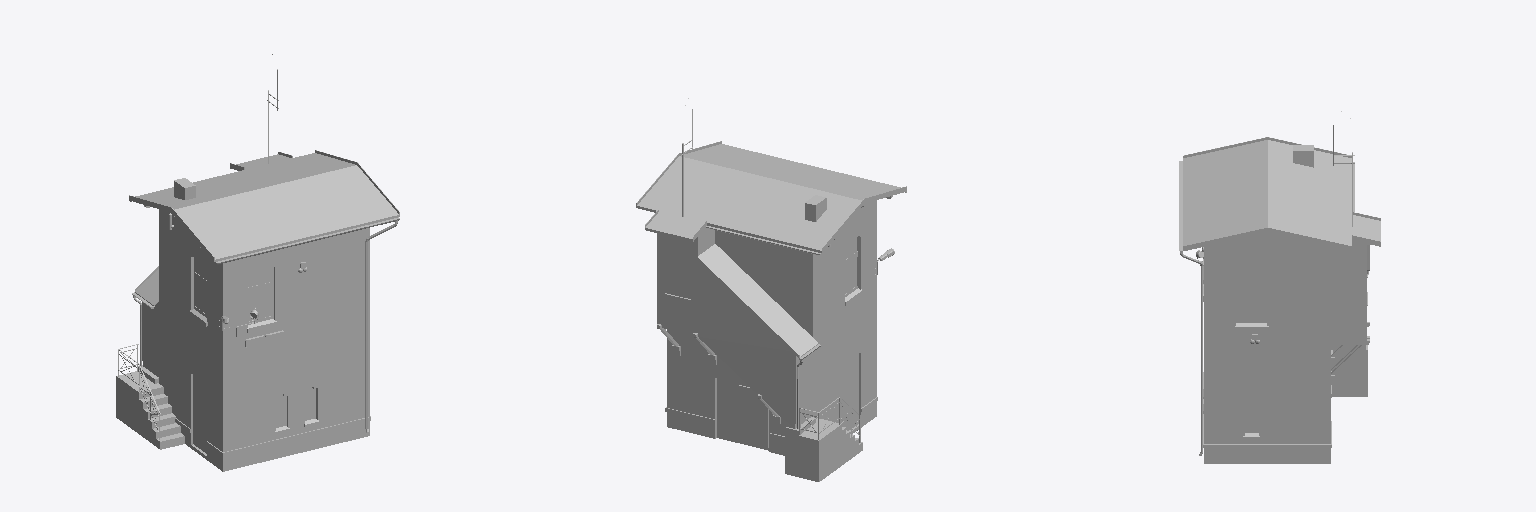
Rendered from stellwerk.obj.
The picture shows the model from 3 angles: view 1: azimuth 30°, elevation 25°; view 2: azimuth 150°, elevation 25°; view 3: azimuth 270°, elevation 25°; orthographic projection.
Parts seen in each view (by area): view 1: stellwerk; view 2: stellwerk; view 3: stellwerk.
Part boxes in pixels (bbox=[...]): stellwerk: bbox=[116, 54, 399, 471]; stellwerk: bbox=[636, 98, 906, 481]; stellwerk: bbox=[1179, 111, 1380, 463].
Bounding box in the file's own units: 9.39 × 16.06 × 8.58.